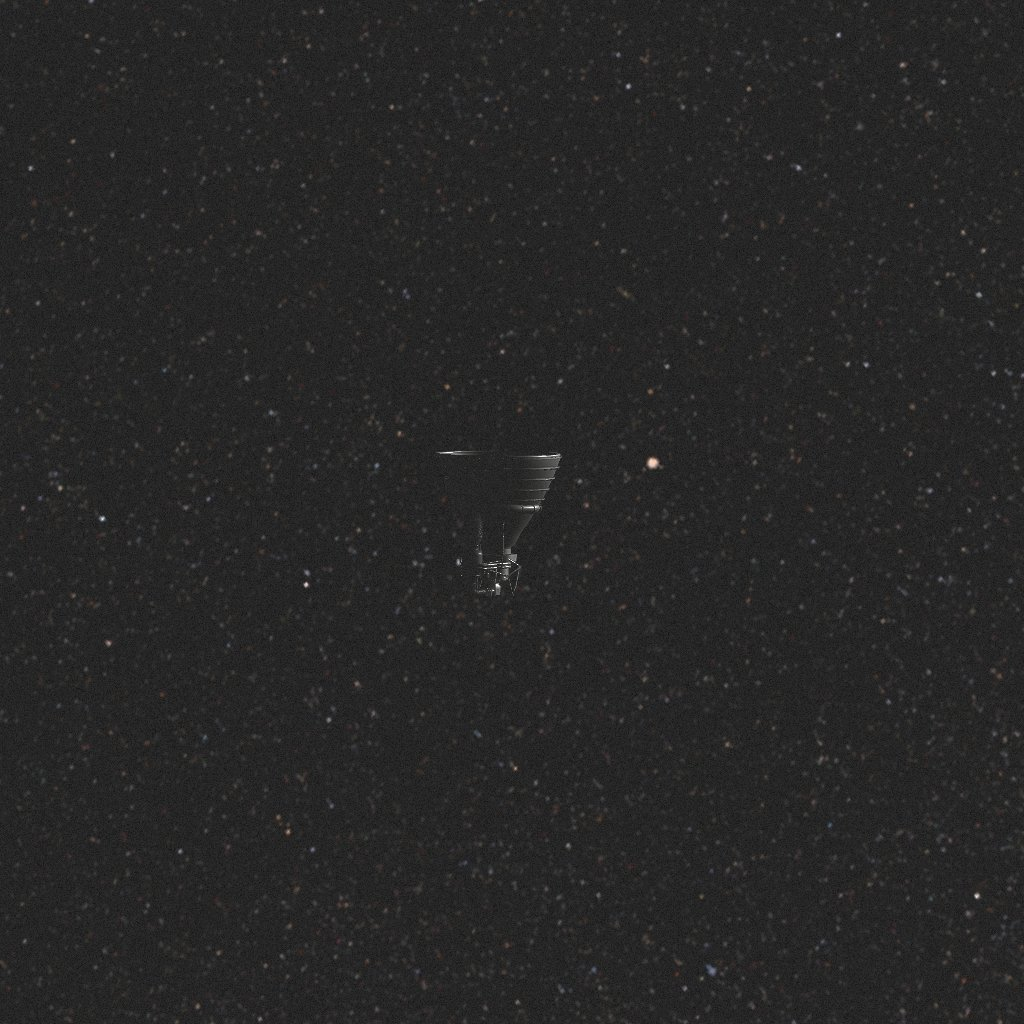debris: (426, 443, 566, 589)
